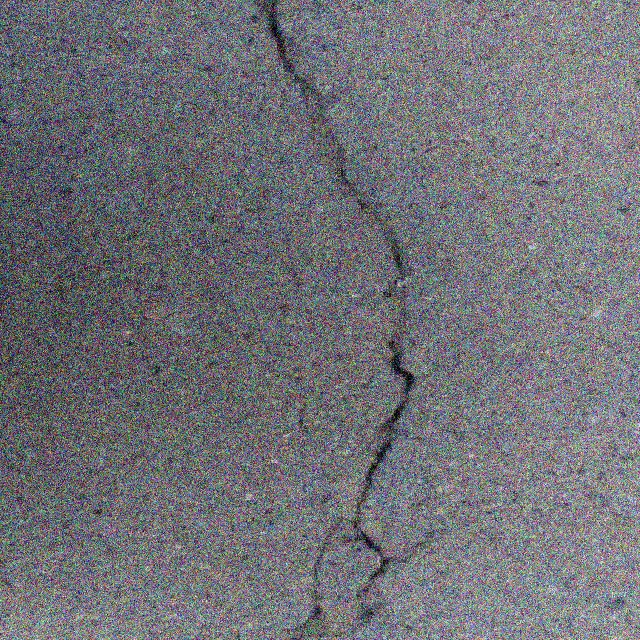SurfaceCrack: (234, 8, 428, 640)
